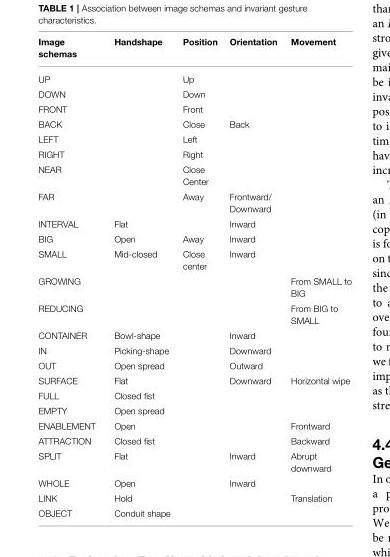table: (37, 37, 350, 517)
table column: (104, 37, 175, 517), (37, 37, 104, 517), (283, 37, 350, 517), (222, 37, 283, 517), (175, 37, 222, 517)
table column header: (37, 37, 350, 66)
table row: (37, 37, 350, 66), (37, 161, 350, 189), (37, 189, 350, 216), (37, 246, 350, 273), (37, 273, 350, 300), (37, 300, 350, 327), (37, 448, 350, 475), (37, 66, 350, 86), (37, 327, 350, 343), (37, 86, 350, 101), (37, 101, 350, 116), (37, 116, 350, 131), (37, 131, 350, 146), (37, 146, 350, 161), (37, 216, 350, 231), (37, 231, 350, 246), (37, 343, 350, 358), (37, 358, 350, 373), (37, 373, 350, 388), (37, 388, 350, 403), (37, 403, 350, 418), (37, 418, 350, 433), (37, 433, 350, 448), (37, 475, 350, 490), (37, 490, 350, 505), (37, 505, 350, 517)
